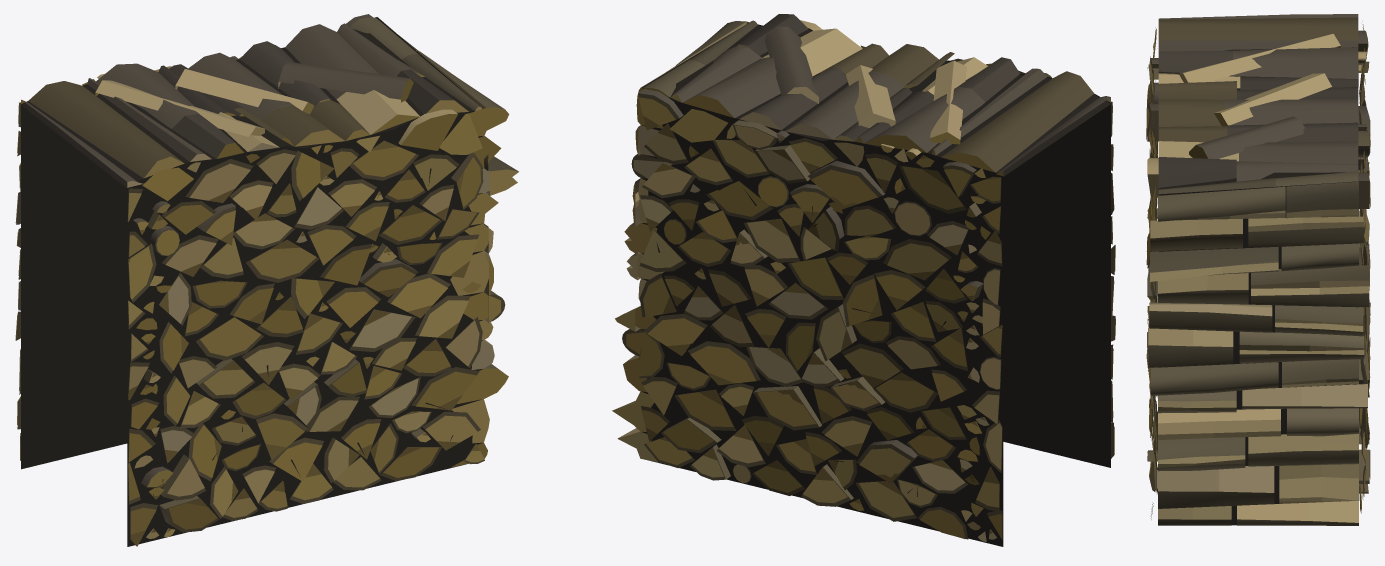
File: cordwood_end.glb
The picture shows the model from 3 angles, left to right: view 1: azimuth 30°, elevation 25°; view 2: azimuth 150°, elevation 25°; view 3: azimuth 270°, elevation 25°; orthographic projection. The views are drawn at different scales.
Parts seen in each view (by area): view 1: Cordwood; view 2: Cordwood; view 3: Cordwood.
Boxes of the visible parts, <box> form: Cordwood: <box>15,14,518,546</box>; Cordwood: <box>612,14,1115,546</box>; Cordwood: <box>1146,14,1370,525</box>.
Bounding box in the file's own units: 2 × 1.8 × 1.
